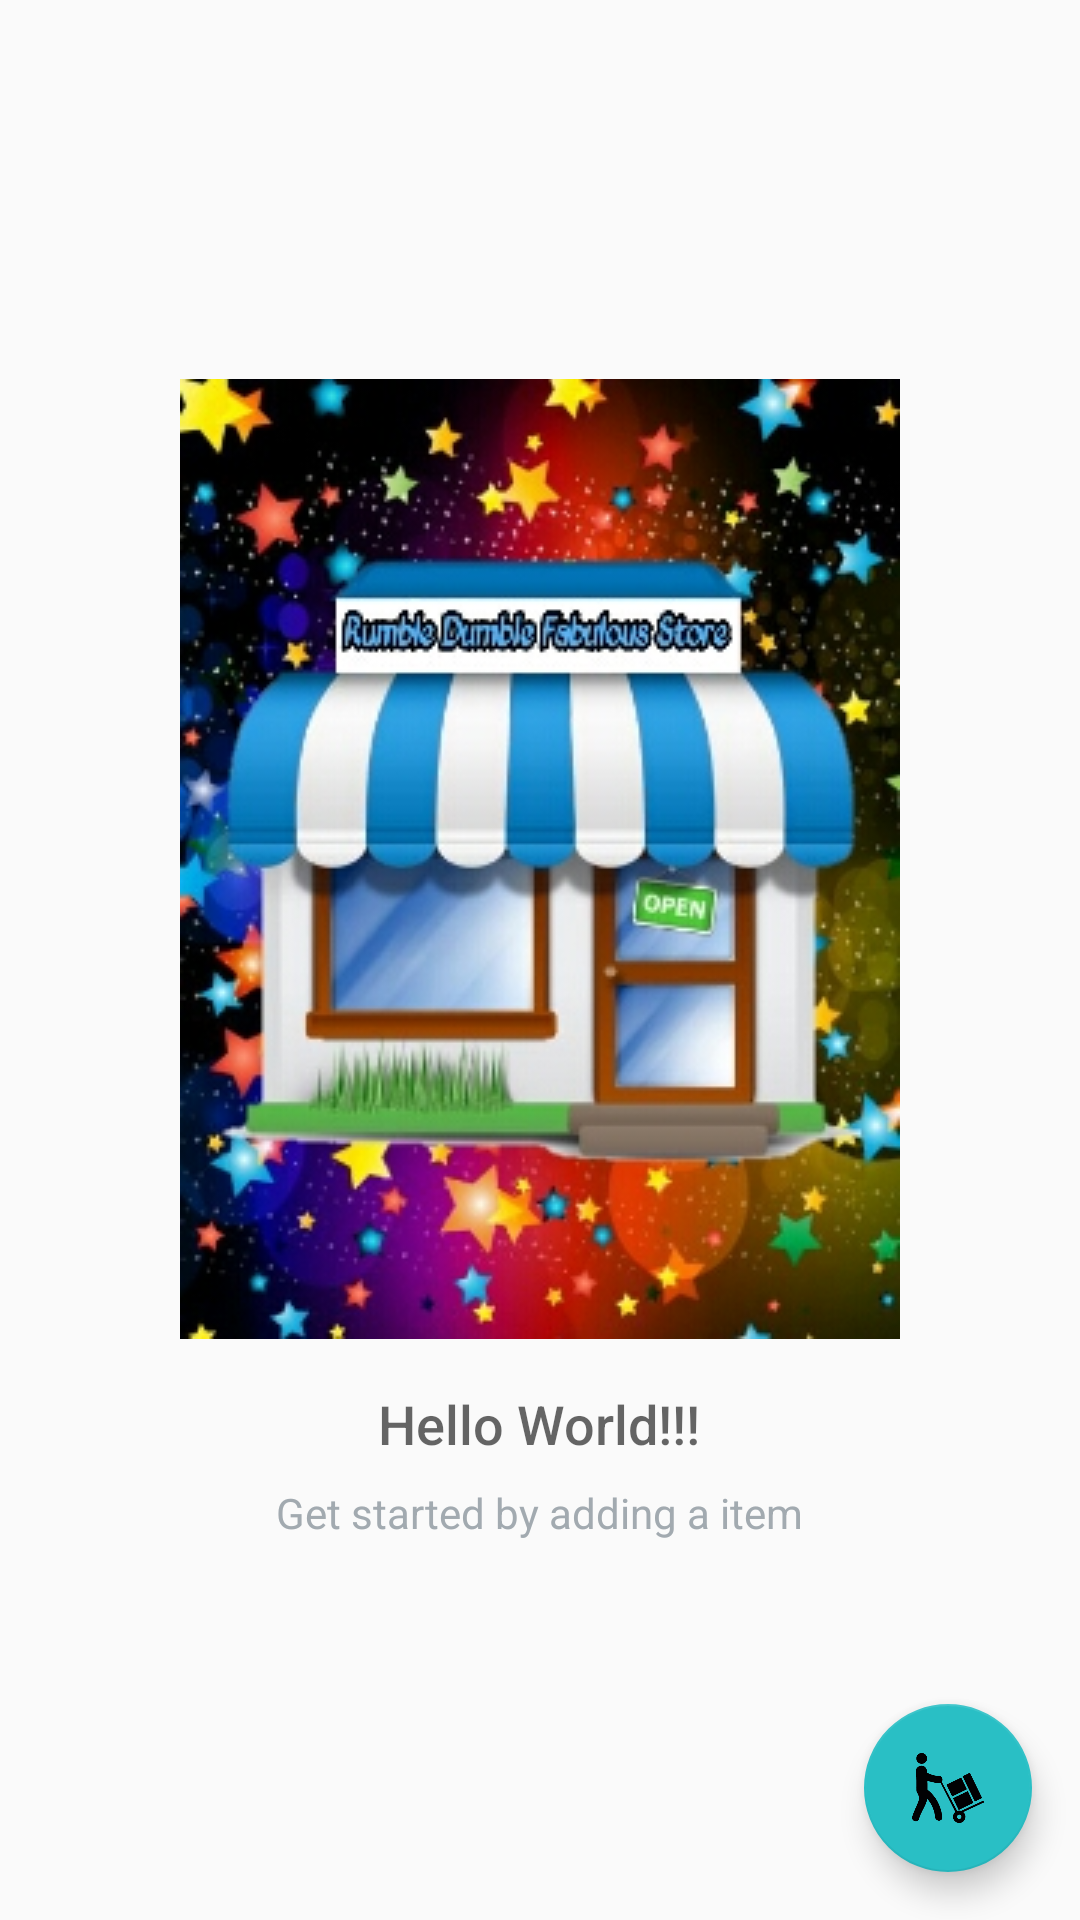

Icons on this 1080*1920 Android screen, each with its box as (x1, y1, x2, y2):
supplies: (864, 1704, 1032, 1872)
